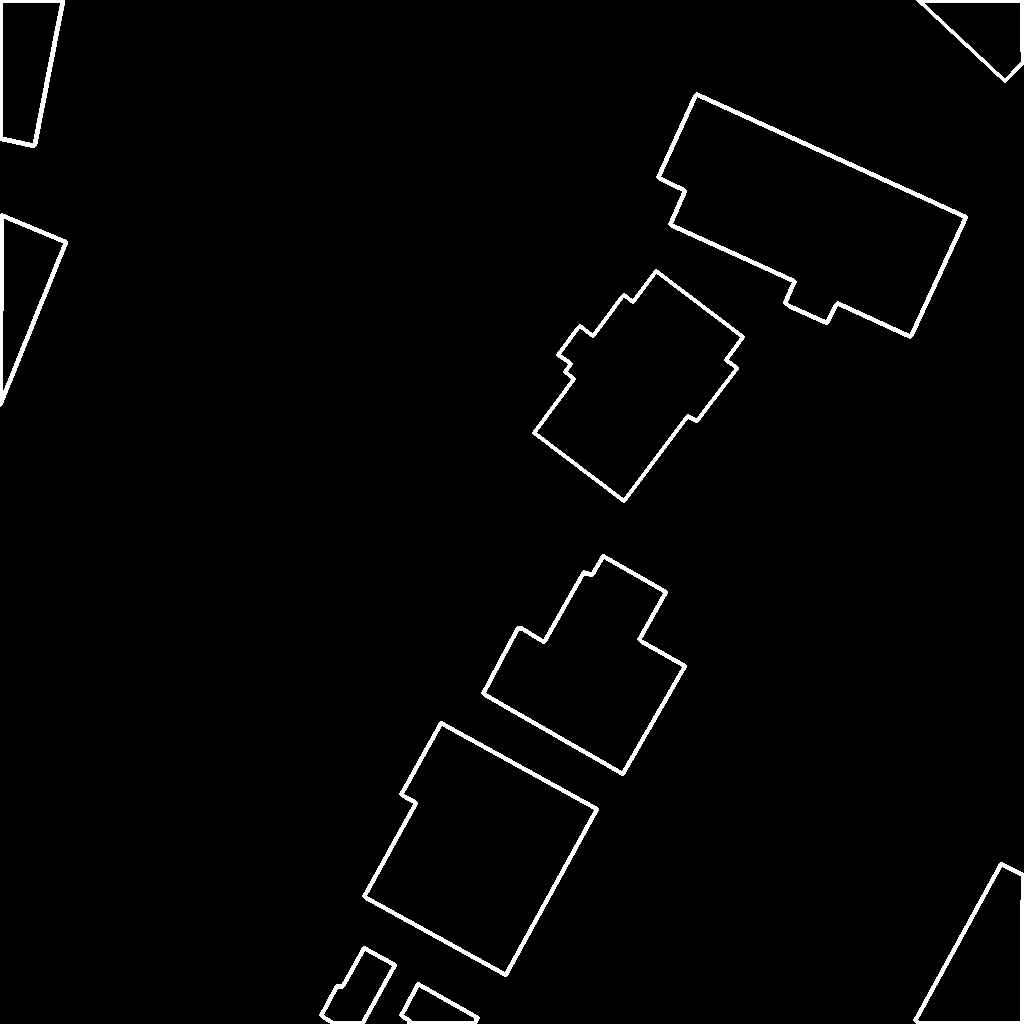building: (658, 94, 967, 338), (364, 723, 598, 976), (534, 271, 744, 502), (483, 556, 686, 775), (915, 864, 1024, 1024), (0, 215, 67, 407), (321, 948, 479, 1024), (0, 0, 64, 147), (918, 0, 1024, 82)
